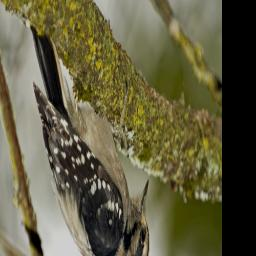Woodpecker: (20, 16, 150, 256)
